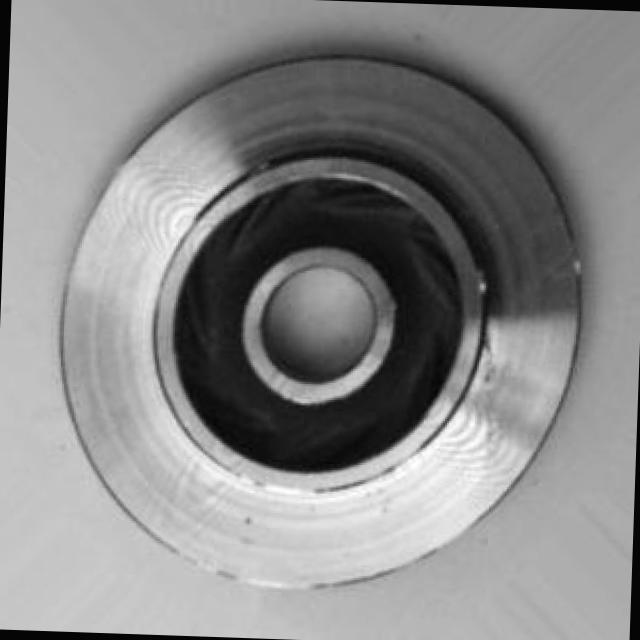Defect: (233, 504, 264, 548)
